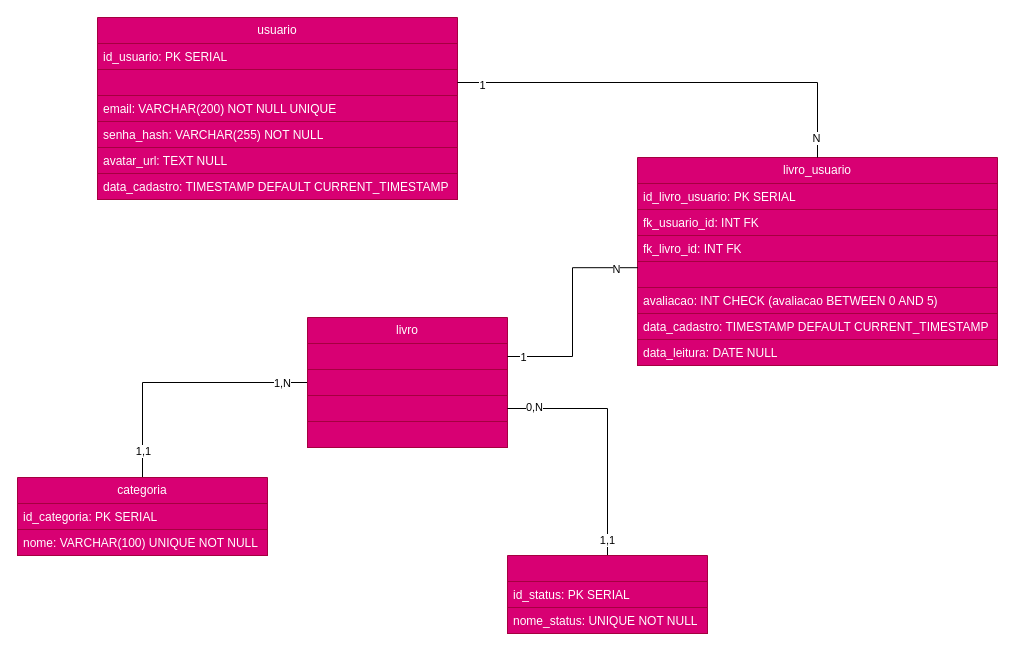
Image size: 1015x654. Some labels were removed from this diagram. The box of each missing label's shape, as (x1, y1, x2, y2) in pixels:
autor: VARCHAR(200) NOT NULL: (306, 394, 508, 422)
fk_categoria_id: INT FK: (306, 420, 508, 448)
fk_status_id: INT FK: (636, 260, 998, 288)
id_livro: PK SERIAL: (306, 342, 508, 370)
nome: VARCHAR(200) NOT NULL: (96, 68, 458, 96)
status_livro: (506, 554, 708, 634)
titulo: VARCHAR(200) NOT NULL: (306, 368, 508, 396)
